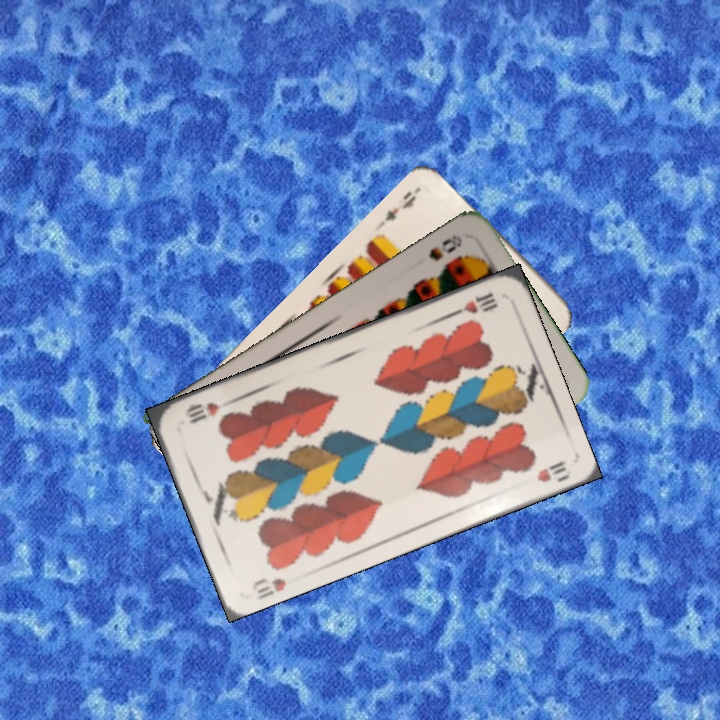E9: (374, 184, 422, 230)
H10: (447, 288, 501, 319), (247, 573, 289, 601)
S8: (424, 230, 465, 264)
